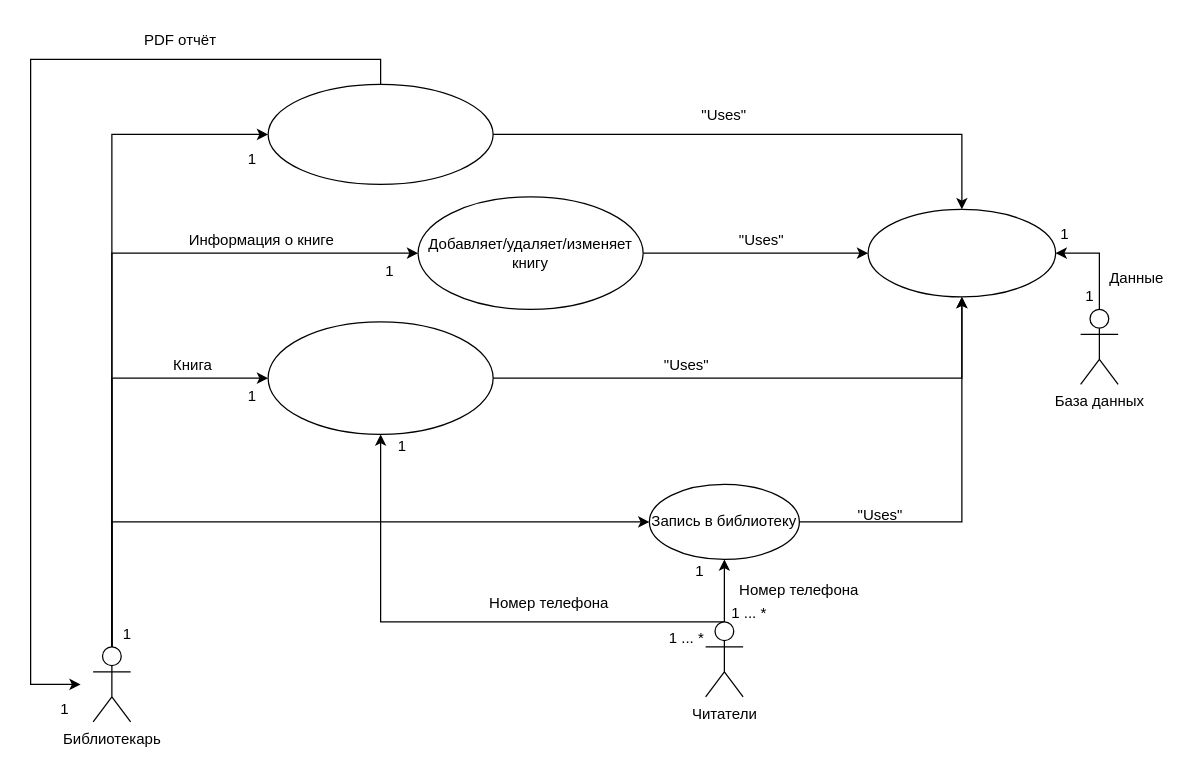
Image size: 1196x769. Some labels were removed from this diagram. The box of each missing label's shape, as (x1, y1, x2, y2) in pixels:
Выборка данных: (867, 208, 1056, 297)
Выдача/возврат книги: (267, 321, 493, 434)
Получение справки: (267, 83, 493, 184)
